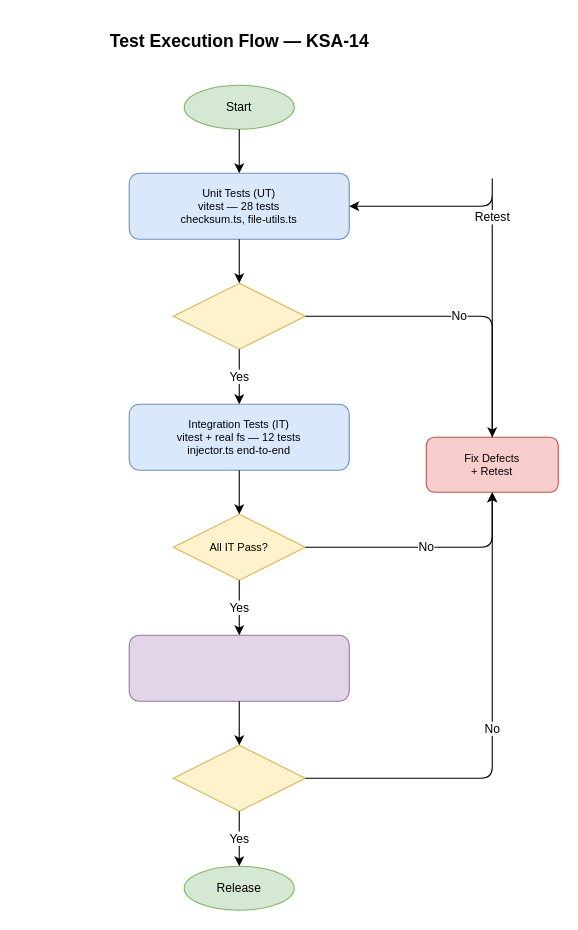
This 578x930 diagram has some shape labels left out. The shapes that lost their labels are listed below. From the top down, each one's centre as x and y in pixels, then its label:
pixel 238 315: All UT Pass?
pixel 238 667: System Integration (SIT) Manual — 8 tests VS Code Extension Host
pixel 238 777: All SIT Pass?
